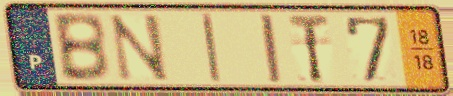7: (342, 14, 393, 84)
B: (49, 10, 114, 84)
I: (255, 11, 284, 85), (198, 10, 225, 86)
N: (106, 12, 173, 83)
T: (285, 12, 332, 86)
